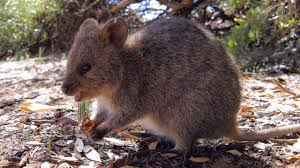quokka: (49, 10, 265, 165)
